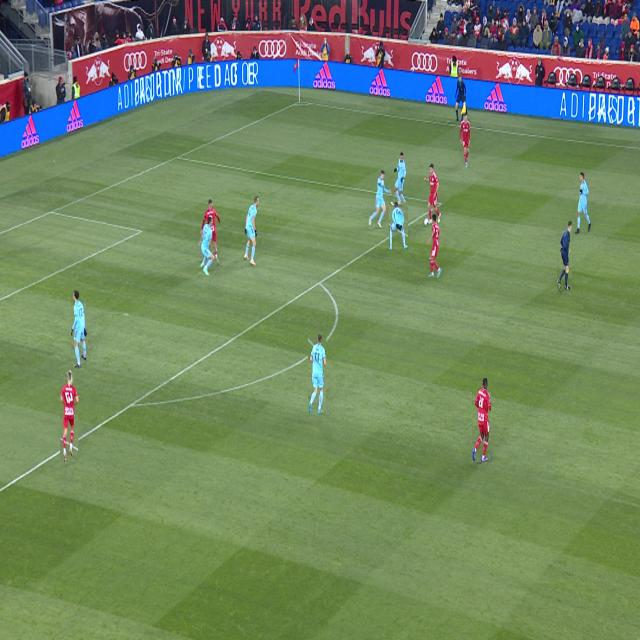football: (424, 218, 429, 227)
player: (61, 370, 78, 462), (473, 379, 491, 462), (309, 334, 326, 415), (368, 170, 391, 228), (201, 199, 221, 265), (72, 290, 86, 368), (424, 163, 441, 225), (198, 215, 215, 276), (244, 196, 259, 265), (575, 173, 591, 233), (427, 214, 442, 278), (389, 202, 408, 250), (394, 152, 407, 207), (460, 115, 470, 168)
referee: (557, 222, 572, 290)
